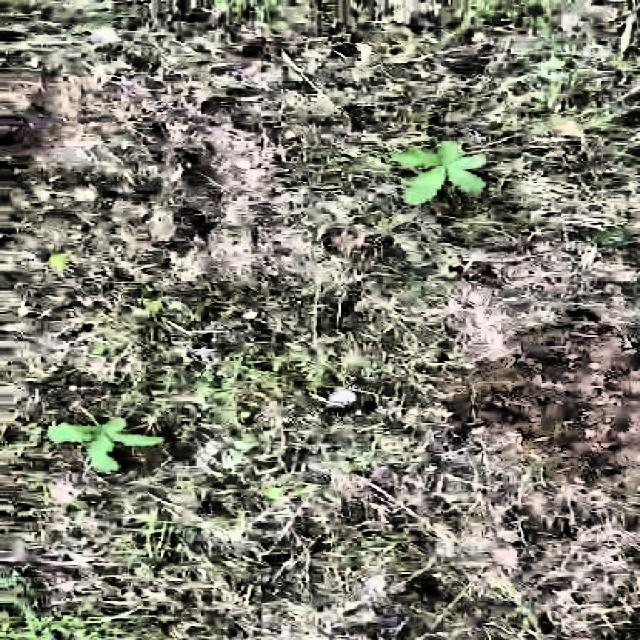Weeds: (48, 416, 165, 473), (393, 140, 490, 202)
